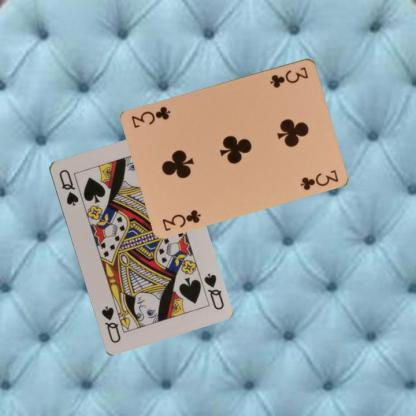3c: (159, 207, 203, 232), (268, 64, 310, 89)
Qs: (56, 166, 80, 207), (201, 270, 225, 311)
